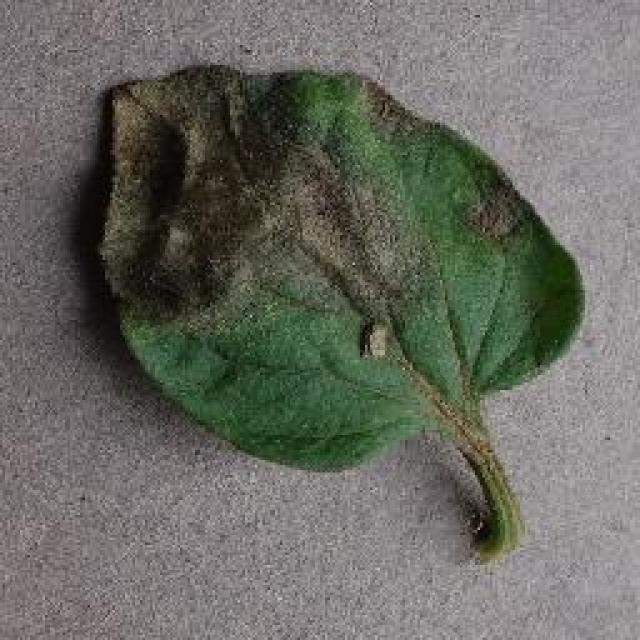Tomato Late Blight: (130, 35, 488, 352)
